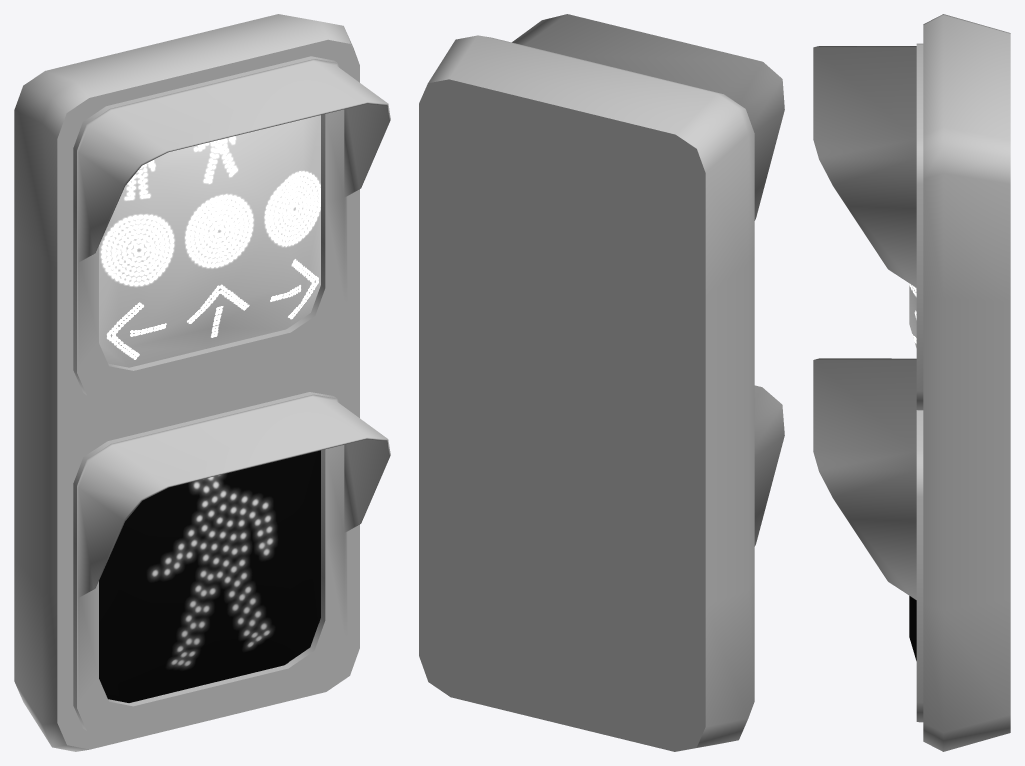
File: PedestrianTrafficLight.fbx
The picture shows the model from 3 angles, left to right: view 1: azimuth 30°, elevation 25°; view 2: azimuth 150°, elevation 25°; view 3: azimuth 270°, elevation 25°; orthographic projection. The views are drawn at different scales.
Parts seen in each view (by area): view 1: TrafficLightsPedestrian; view 2: TrafficLightsPedestrian; view 3: TrafficLightsPedestrian.
Part boxes in pixels (bbox=[...]): TrafficLightsPedestrian: bbox=[14, 14, 390, 751]; TrafficLightsPedestrian: bbox=[419, 14, 784, 751]; TrafficLightsPedestrian: bbox=[813, 14, 1010, 751].
Size of the model in its own units: 41.05 by 84.54 by 24.2.
